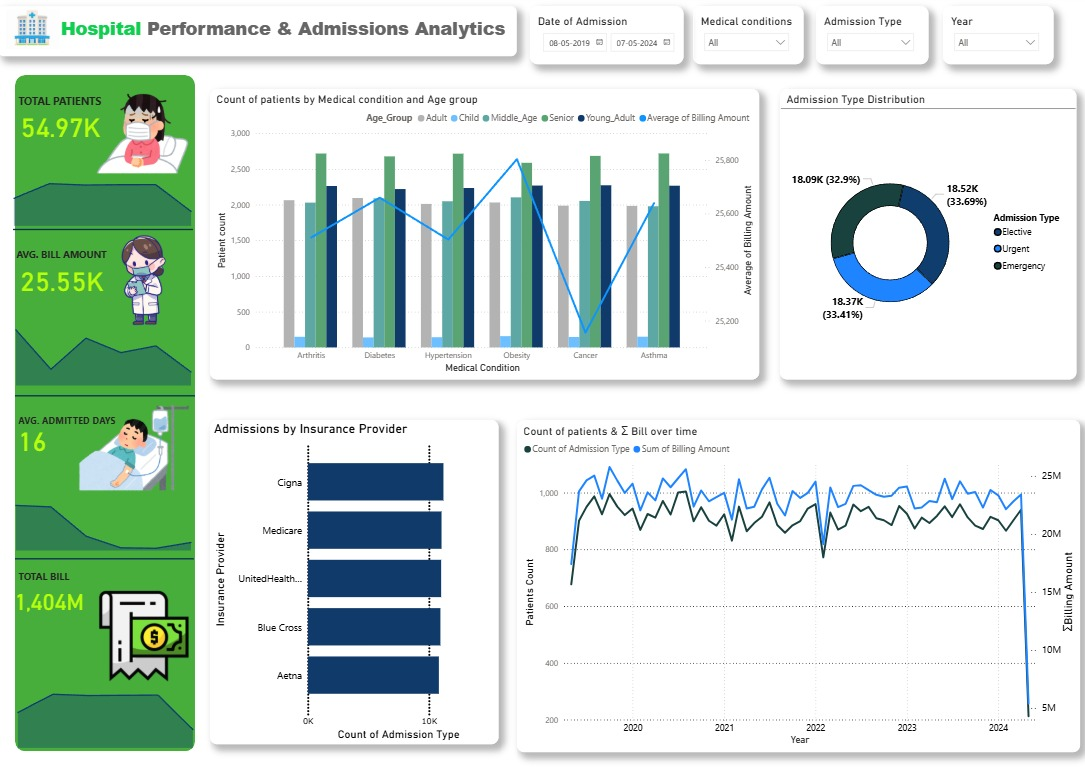

Layout of this report page (visuals, bound fields, positions):
{"tool":"powerbi","page":{"name":"Overview","canvas":[1650,1200],"ordinal":0},"visuals":[{"type":"donutChart","title":"Admission Type Distribution","fields":{"Category":["Hospital_dataset_ML_ready.Admission Type"],"Y":["CountNonNull(Hospital_dataset_ML_ready.Admission Type)"]},"box":[1182.2,136.7,447.8,438.9],"z":1000},{"type":"clusteredBarChart","title":"Admissions by Insurance Provider","fields":{"Category":["Hospital_dataset_ML_ready.Insurance Provider"],"Y":["CountNonNull(Hospital_dataset_ML_ready.Admission Type)"]},"box":[321.1,635.6,435.6,490],"z":2000},{"type":"textbox","box":[0,11.1,784.4,75.6],"z":3000},{"type":"slicer","title":"Date of Admission","fields":{"Values":["Hospital_dataset_ML_ready.Date of Admission"]},"box":[804.4,11.1,232.2,87.8],"z":4000},{"type":"lineClusteredColumnComboChart","title":"Count of patients by Medical condition and Age group","fields":{"Category":["Hospital_dataset_ML_ready.Medical Condition"],"Y":["CountNonNull(Hospital_dataset_ML_ready.Admission Type)"],"Series":["Hospital_dataset_ML_ready.Age_Group"],"Y2":["Avg(Hospital_dataset_ML_ready.Billing Amount)"]},"box":[321.1,136.7,830,438.9],"z":5000},{"type":"image","box":[0,11,104.4,70],"z":6000},{"type":"shape","box":[25.6,115.6,272.2,1022.2],"z":7000},{"type":"slicer","title":"Medical conditions","fields":{"Values":["Hospital_dataset_ML_ready.Medical Condition"]},"box":[1051.1,11.1,166.7,87.8],"z":8000},{"type":"slicer","title":"Admission Type","fields":{"Values":["Hospital_dataset_ML_ready.Admission Type"]},"box":[1236.7,11.1,170,87.8],"z":9000},{"type":"slicer","title":"Year","fields":{"Values":["Hospital_dataset_ML_ready.Date of Admission.Variation.Date Hierarchy.Year"]},"box":[1427.8,11.1,166.7,87.8],"z":10000},{"type":"image","box":[75.6,588.9,222.2,181.1],"z":12000},{"type":"shape","box":[23.3,330,272.2,37.8],"z":13000},{"type":"image","box":[140,348.9,166.7,158.9],"z":15000},{"type":"card","title":"AVG BILLING AMT","fields":{"Values":["Avg(Hospital_dataset_ML_ready.Billing Amount)"]},"box":[25.6,396.7,142.2,53.3],"z":16000},{"type":"shape","box":[25.6,575.6,272.2,47.8],"z":17000},{"type":"image","box":[115.6,127.8,180,150],"z":18000},{"type":"card","title":"TOTAL PATIENTS","fields":{"Values":["CountNonNull(Hospital_dataset_ML_ready.Admission Type)"]},"box":[25.6,162.2,136.7,57.8],"z":19000},{"type":"card","title":"Average Lenght of Stay","fields":{"Values":["Avg(Hospital_dataset_ML_ready.Length_of_Stay)"]},"box":[21.1,635.6,61.1,56.7],"z":21000},{"type":"shape","box":[25.6,822.2,270,47.8],"z":22000},{"type":"image","box":[96.7,881.1,205.6,160],"z":23000},{"type":"textbox","box":[25.6,847.8,100,44.4],"z":24000},{"type":"card","title":"Average Lenght of Stay","fields":{"Values":["Sum(Hospital_dataset_ML_ready.Billing Amount)"]},"box":[13.3,881.1,126.7,56.7],"z":25000},{"type":"lineChart","title":"Count of patients & Σ Bill over time","fields":{"Category":["Hospital_dataset_ML_ready.Date of Admission.Variation.Date Hierarchy.Year","Hospital_dataset_ML_ready.Date of Admission.Variation.Date Hierarchy.Month"],"Y":["CountNonNull(Hospital_dataset_ML_ready.Admission Type)"],"Y2":["Sum(Hospital_dataset_ML_ready.Billing Amount)"]},"box":[784.4,635.6,851.1,502.2],"z":25001},{"type":"areaChart","fields":{"Y":["CountNonNull(Hospital_dataset_ML_ready.Billing_Category)"],"Category":["Hospital_dataset_ML_ready.Date of Admission.Variation.Date Hierarchy.Year"]},"box":[8.9,243.3,297.8,105.6],"z":25002},{"type":"textbox","box":[25.6,127.8,165.6,44.4],"z":25003},{"type":"textbox","box":[23.3,361.1,228.9,44.4],"z":25004},{"type":"areaChart","fields":{"Category":["Hospital_dataset_ML_ready.Date of Admission.Variation.Date Hierarchy.Year"],"Y":["Avg(Hospital_dataset_ML_ready.Billing Amount)"]},"box":[12.2,483.3,294.4,105.6],"z":25005},{"type":"areaChart","fields":{"Category":["Hospital_dataset_ML_ready.Date of Admission.Variation.Date Hierarchy.Year"],"Y":["Avg(Hospital_dataset_ML_ready.Length_of_Stay)"]},"box":[12.2,733.3,294.4,105.6],"z":25006},{"type":"textbox","box":[25.6,613.3,165.6,44.4],"z":25007},{"type":"areaChart","fields":{"Category":["Hospital_dataset_ML_ready.Date of Admission.Variation.Date Hierarchy.Year"],"Y":["Sum(Hospital_dataset_ML_ready.Billing Amount)"]},"box":[14.4,1032.2,294.4,105.6],"z":25008}]}

Visuals, with their boxes in screenshot pixels (x1, y1, x2, y2), scaled from the page's 1650x1200 canvas onto the 1085x781 screenshot:
"Admission Type Distribution" donutChart: <box>777,89,1072,375</box>
"Admissions by Insurance Provider" clusteredBarChart: <box>211,414,498,733</box>
textbox: <box>0,7,516,56</box>
"Date of Admission" slicer: <box>529,7,682,64</box>
"Count of patients by Medical condition and Age group" lineClusteredColumnComboChart: <box>211,89,757,375</box>
image: <box>0,7,69,53</box>
shape: <box>17,75,196,741</box>
"Medical conditions" slicer: <box>691,7,801,64</box>
"Admission Type" slicer: <box>813,7,925,64</box>
"Year" slicer: <box>939,7,1049,64</box>
image: <box>50,383,196,501</box>
shape: <box>15,215,194,239</box>
image: <box>92,227,202,330</box>
"AVG BILLING AMT" card: <box>17,258,110,293</box>
shape: <box>17,375,196,406</box>
image: <box>76,83,194,181</box>
"TOTAL PATIENTS" card: <box>17,106,107,143</box>
"Average Lenght of Stay" card: <box>14,414,54,451</box>
shape: <box>17,535,194,566</box>
image: <box>64,573,199,678</box>
textbox: <box>17,552,83,581</box>
"Average Lenght of Stay" card: <box>9,573,92,610</box>
"Count of patients & Σ Bill over time" lineChart: <box>516,414,1075,741</box>
areaChart - CountNonNull(Hospital_dataset_ML_ready.Billing_Category) x Hospital_dataset_ML_ready.Date of Admission.Variation.Date Hierarchy.Year: <box>6,158,202,227</box>
textbox: <box>17,83,126,112</box>
textbox: <box>15,235,166,264</box>
areaChart - Hospital_dataset_ML_ready.Date of Admission.Variation.Date Hierarchy.Year x Avg(Hospital_dataset_ML_ready.Billing Amount): <box>8,315,202,383</box>
areaChart - Hospital_dataset_ML_ready.Date of Admission.Variation.Date Hierarchy.Year x Avg(Hospital_dataset_ML_ready.Length_of_Stay): <box>8,477,202,546</box>
textbox: <box>17,399,126,428</box>
areaChart - Hospital_dataset_ML_ready.Date of Admission.Variation.Date Hierarchy.Year x Sum(Hospital_dataset_ML_ready.Billing Amount): <box>9,672,203,741</box>
